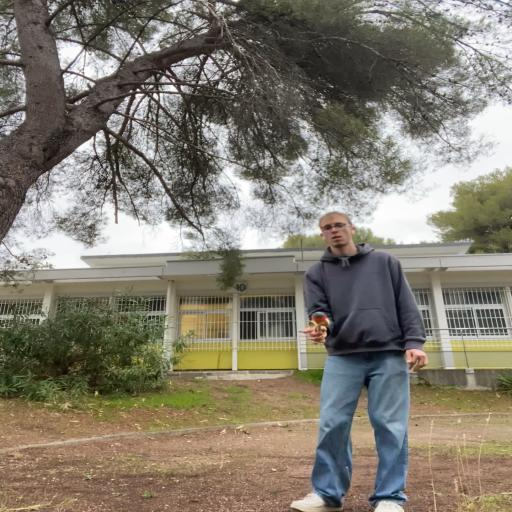kendama_ball: (312, 312, 326, 324)
